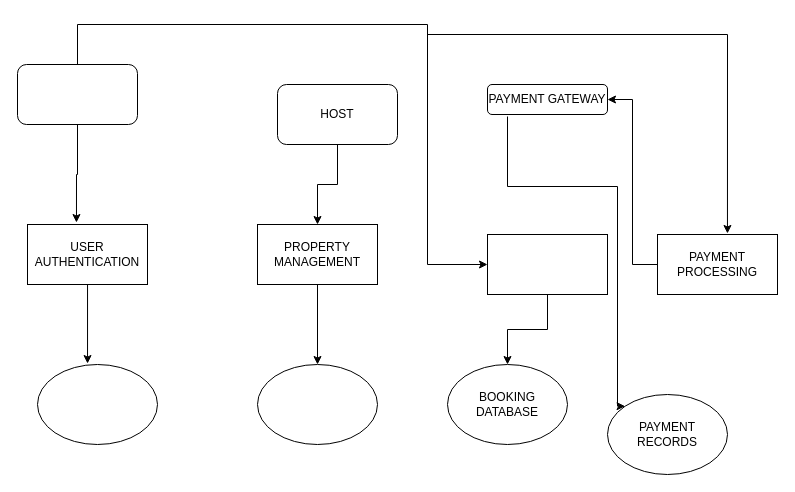
This 795x492 diagram has some shape labels left out. Each missing label, with the centre of its shape:
"BOOKING MANAGEMENT" goes at point (547, 264).
"PROPERTY DATABASE" goes at point (317, 404).
"USER" goes at point (77, 94).
"USER DATABASE" goes at point (97, 404).
